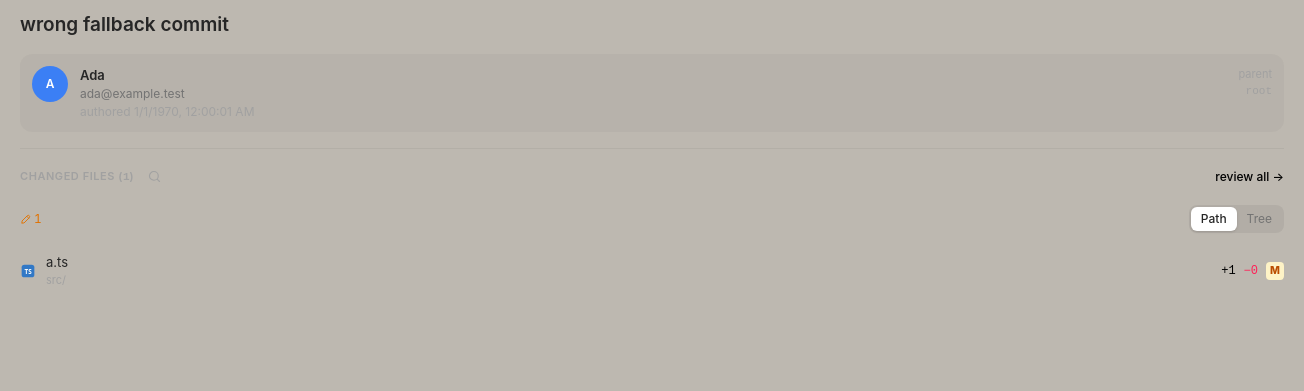
Test case: CommitInspector › shows a clearable empty state when nothing matches the filter
This screenshot has width=1304, height=391.
Click the button named "Filter files" at (154, 177), box [142,165,166,189]
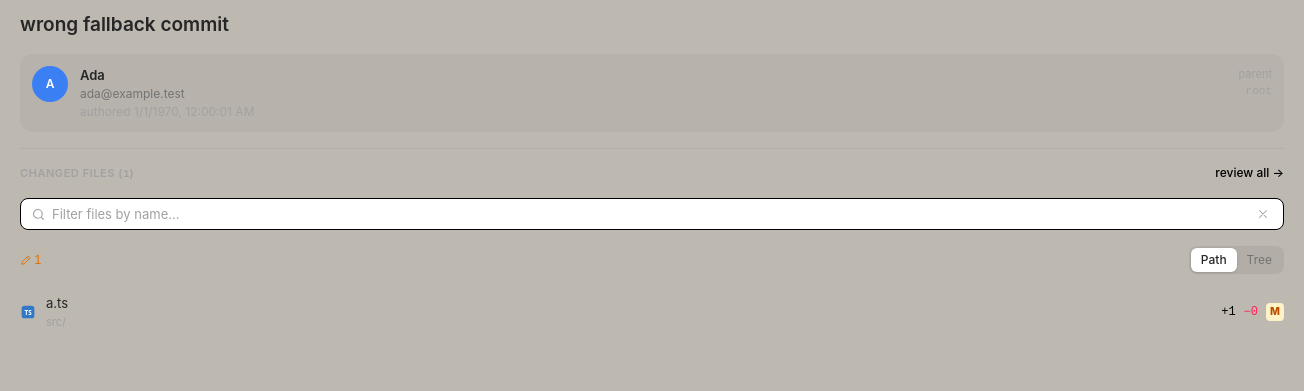
Type "nope" into the field with placeholder "Filter files by name…" at (650, 214), box [52,199,1247,229]
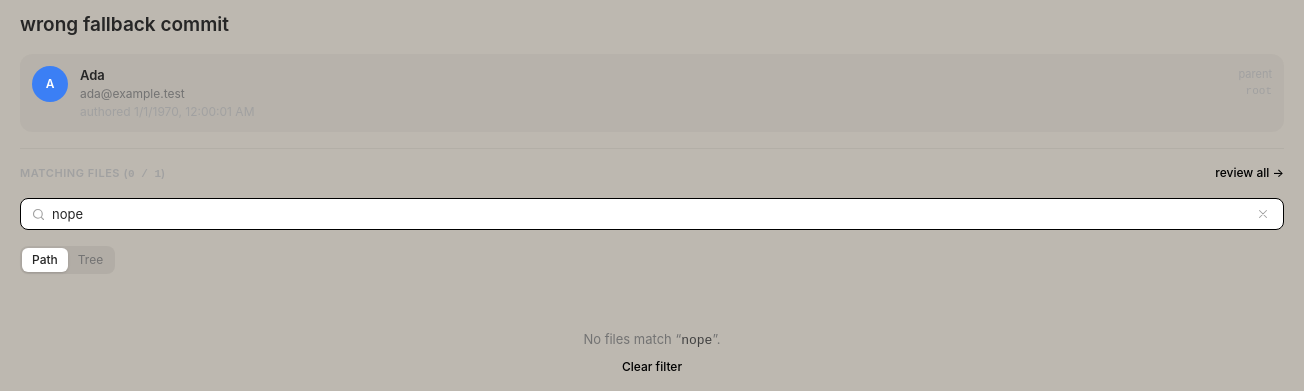
Now the text "No files match “nope”." is shown, box [583,330,721,351]
Click the button "Clear filter" at (652, 367), box [622,359,682,375]
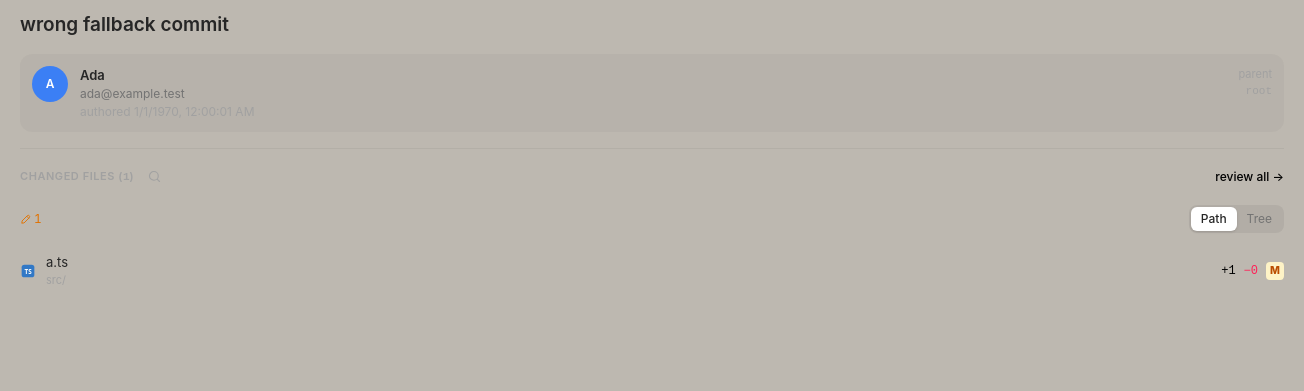
Expected: the field with placeholder "Filter files" is not shown
Now the text "a.ts" is shown, box [46,254,68,270]
